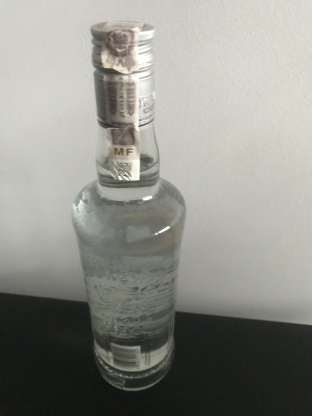nakretka: (88, 17, 157, 131)
